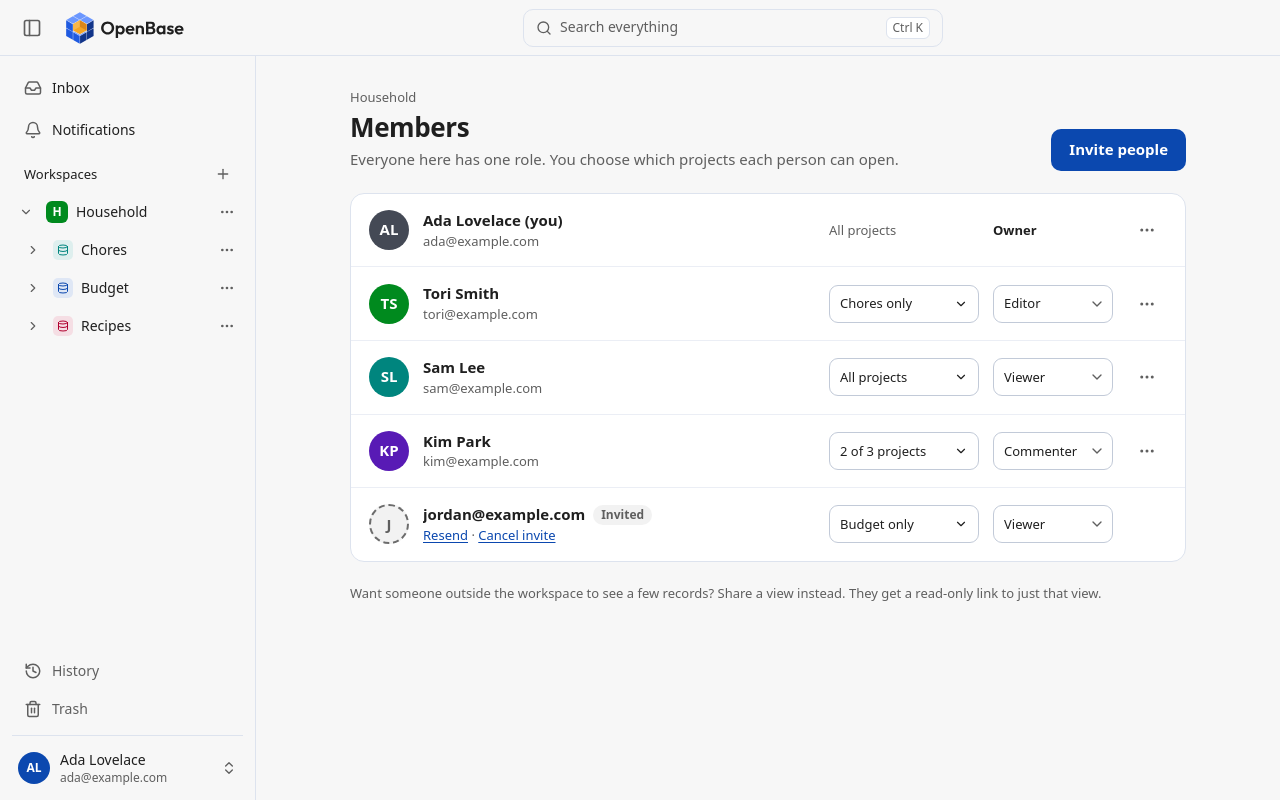
Test case: members page › resends an invite as a new one with the same terms, then shows its link
Click the button "Resend". click: x=446, y=535
box: x1=423 y1=526 x2=468 y2=545
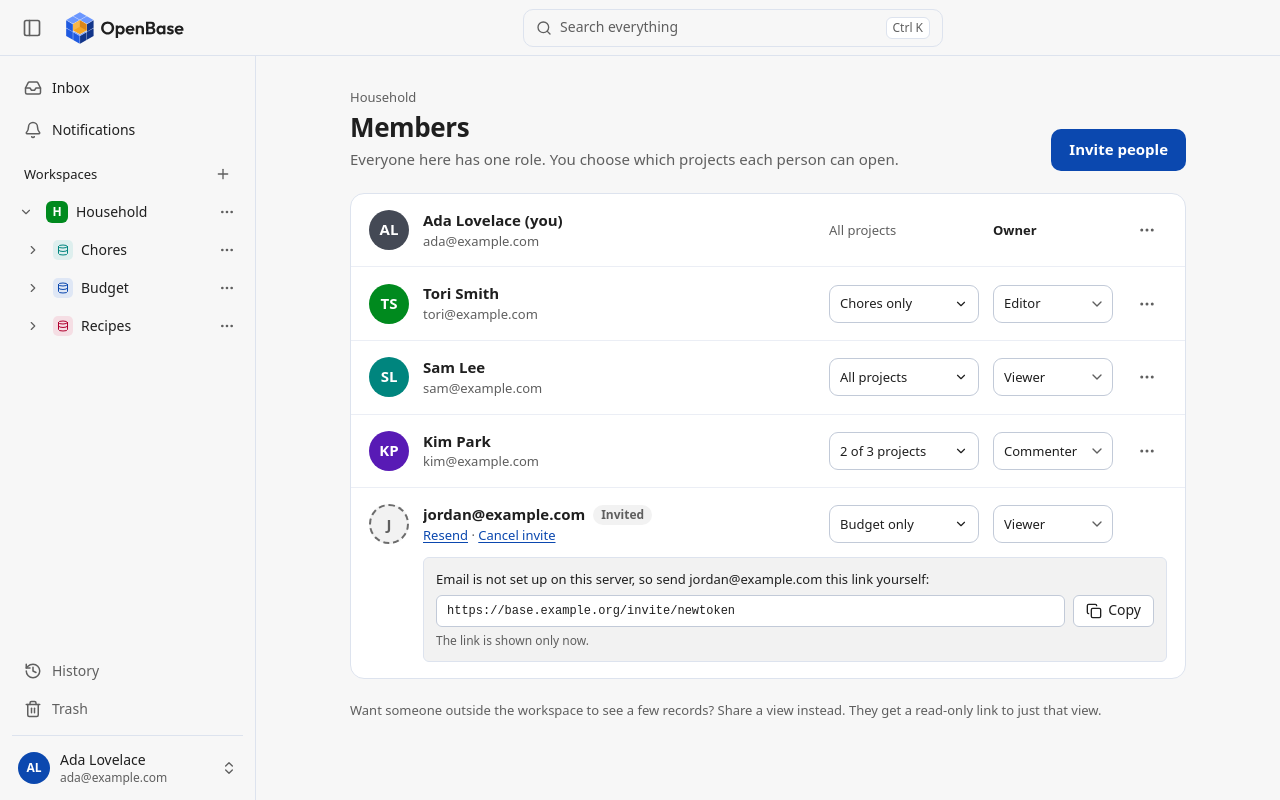
Now the field named "Invite link" holds "https://base.example.org/invite/newtoken", box x1=436 y1=595 x2=1065 y2=627
Now the text "Email is not set up on this server, so send jordan@example.com this link yourself:" is shown, box x1=436 y1=570 x2=929 y2=588
